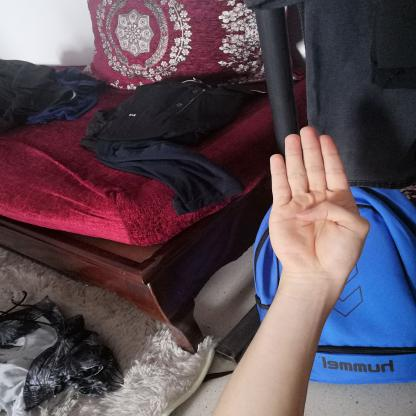KAAF: (248, 114, 383, 291)
